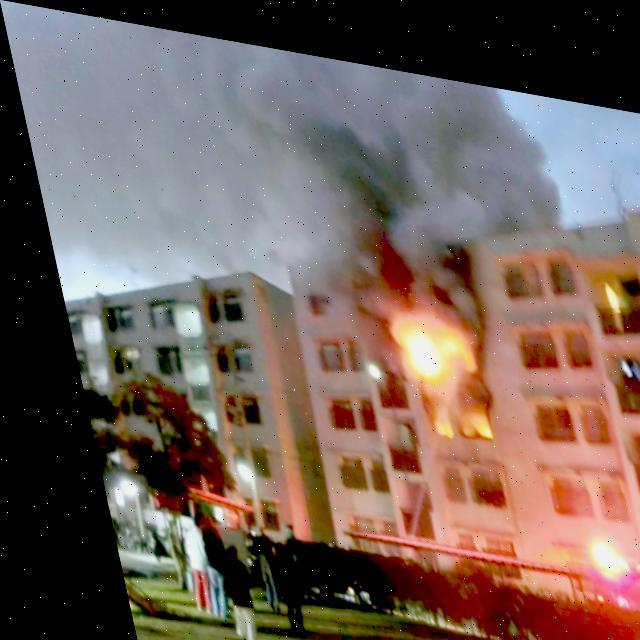Fire: (381, 296, 500, 440)
